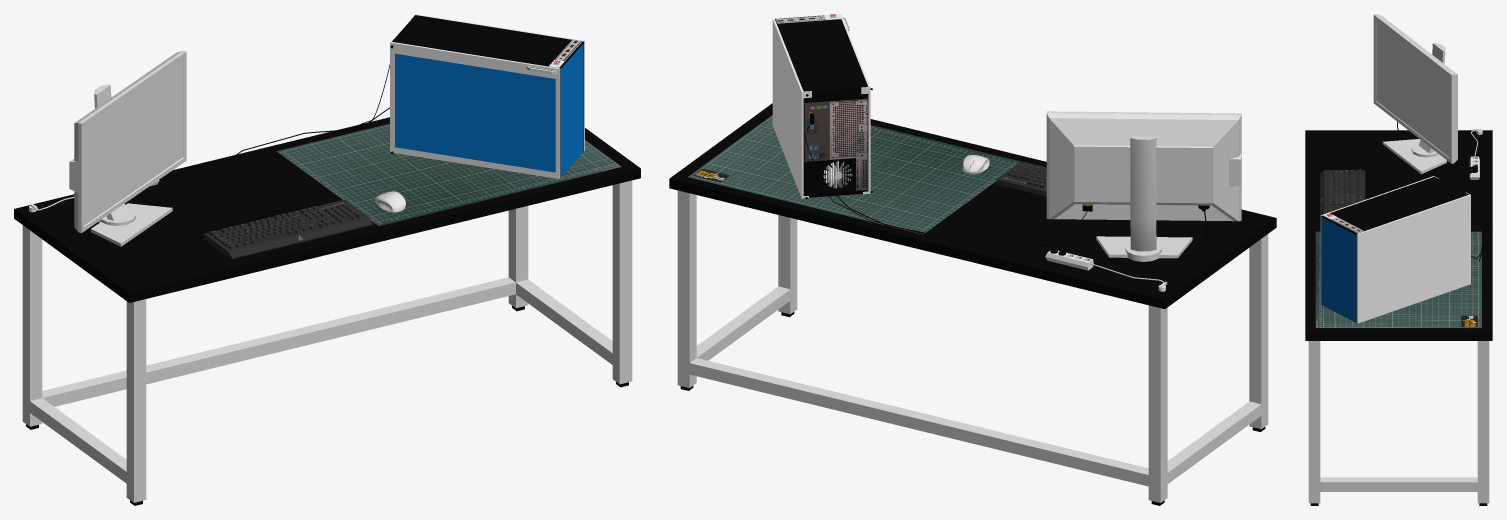
The model's file is Allmodelfatih.fbx.
3 renders of one model, left to right at view 1: azimuth 30°, elevation 25°; view 2: azimuth 150°, elevation 25°; view 3: azimuth 270°, elevation 25°, orthographic. The views are drawn at different scales.
Visible parts, largest first — view 1: Plane.002, right, Monitor_01, Plane, Keyboards, frontglass; view 2: Plane.002, Monitor_01, Plane, Back.001, left, power, Keyboards; view 3: Plane.002, left, Monitor_01, Plane, frontglass, Keyboards, right.
Part boxes in pixels (<box>): Plane.002: <box>14,117,640,505</box>; right: <box>390,38,560,178</box>; Monitor_01: <box>69,50,186,246</box>; Plane: <box>392,15,583,177</box>; Keyboards: <box>204,199,372,259</box>; frontglass: <box>560,43,583,177</box>; Plane.002: <box>669,103,1276,505</box>; Monitor_01: <box>1046,111,1241,261</box>; Plane: <box>775,14,868,197</box>; Back.001: <box>804,98,867,190</box>; left: <box>772,19,811,198</box>; power: <box>804,158,855,194</box>; Keyboards: <box>996,161,1046,196</box>; Plane.002: <box>1305,130,1492,505</box>; left: <box>1356,192,1470,323</box>; Monitor_01: <box>1373,14,1457,174</box>; Plane: <box>1321,176,1468,322</box>; frontglass: <box>1322,217,1356,322</box>; Keyboards: <box>1320,169,1365,230</box>; right: <box>1320,176,1438,304</box>.
Bounding box in the file's own units: 839 × 547 × 320.
